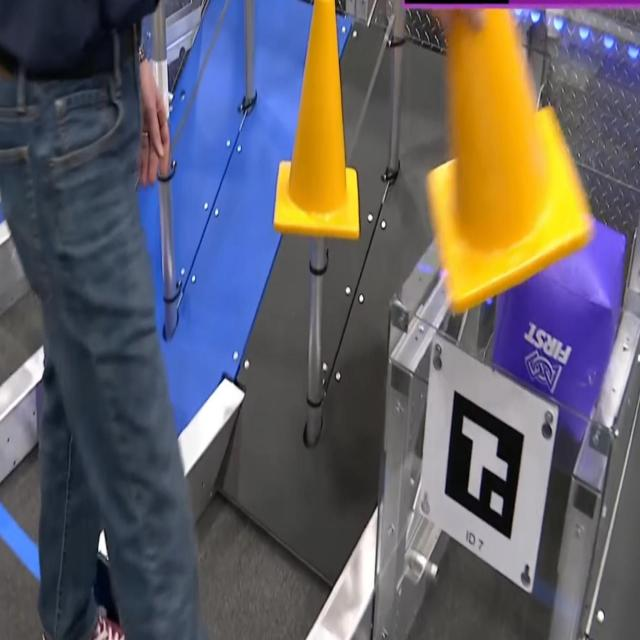frc_cone: (425, 0, 595, 314), (272, 0, 362, 244)
frc_cube: (491, 218, 624, 442)
